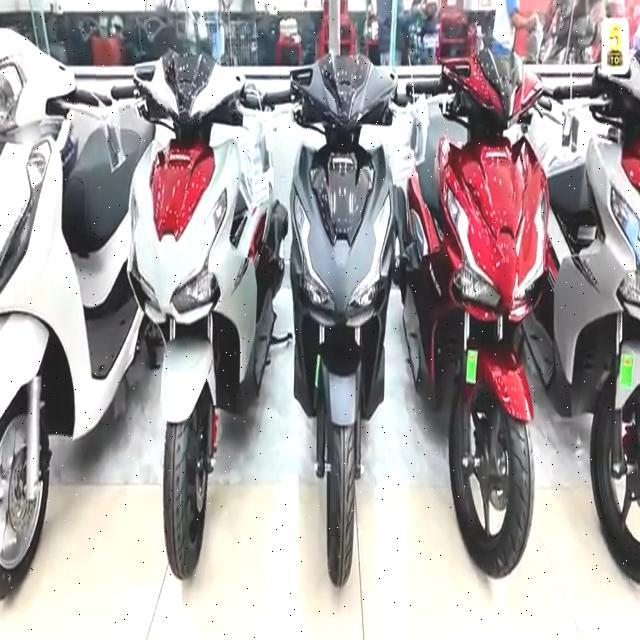motorcycle: (103, 21, 263, 588), (0, 15, 142, 625), (270, 30, 413, 590), (419, 48, 555, 595), (544, 54, 640, 590)
